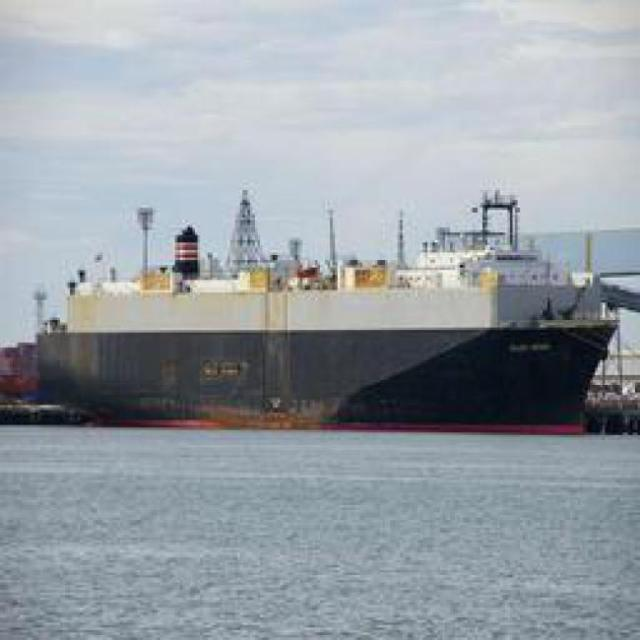boat: (12, 251, 618, 448)
